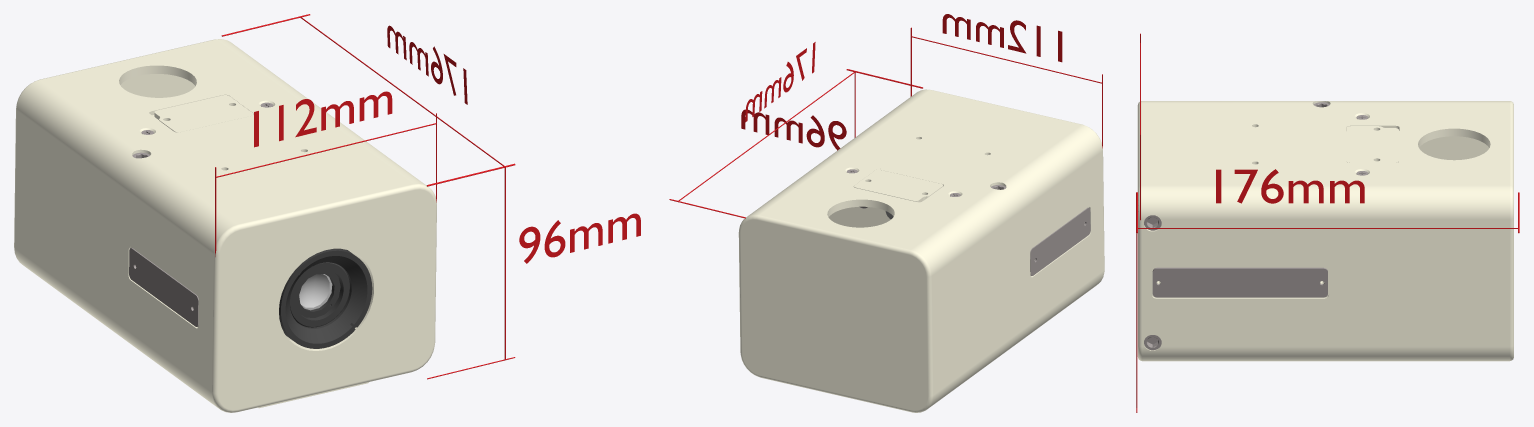
Rendered from demo.glb.
3 views of the same model, side by side, from view 1: azimuth 30°, elevation 25°; view 2: azimuth 150°, elevation 25°; view 3: azimuth 270°, elevation 25° (orthographic). The views are drawn at different scales.
Visible parts, largest first — view 1: 本体, 密閉カバー, 先端, ロゴ板, ねじ調節用板_上, テキスト.002, テキスト, 全面筒, テキスト.001, レンズ, レンズ止め, 円柱.002 (+2 smaller); view 2: 密閉カバー, 本体, ロゴ板, ねじ調節用板_上, テキスト.002, テキスト, 背面板, テキスト.001, 円柱.002, 円柱.001; view 3: 本体, 密閉カバー, 銘板, ねじ調節用板_上, テキスト.001, 円柱.002, 円柱.003.
Boxes of the visible parts, left/top/right/bottom form: 本体: left=104, top=105, right=436, bottom=412; 密閉カバー: left=14, top=39, right=318, bottom=329; 先端: left=279, top=248, right=372, bottom=348; ロゴ板: left=129, top=248, right=198, bottom=326; ねじ調節用板_上: left=154, top=95, right=253, bottom=132; テキスト.002: left=519, top=213, right=640, bottom=263; テキスト: left=254, top=91, right=392, bottom=147; 全面筒: left=290, top=262, right=349, bottom=327; テキスト.001: left=387, top=25, right=467, bottom=104; レンズ: left=299, top=274, right=332, bottom=310; レンズ止め: left=296, top=269, right=340, bottom=317; 円柱.002: left=221, top=14, right=514, bottom=186; 密閉カバー: left=738, top=158, right=1010, bottom=412; 本体: left=825, top=89, right=1104, bottom=351; ロゴ板: left=1030, top=207, right=1090, bottom=275; ねじ調節用板_上: left=854, top=169, right=943, bottom=202; テキスト.002: left=741, top=109, right=846, bottom=150; テキスト: left=942, top=14, right=1062, bottom=62; 背面板: left=828, top=207, right=890, bottom=227; テキスト.001: left=745, top=42, right=815, bottom=122; 円柱.002: left=669, top=69, right=922, bottom=218; 円柱.001: left=910, top=27, right=1102, bottom=148; 本体: left=1137, top=101, right=1342, bottom=361; 密閉カバー: left=1343, top=101, right=1513, bottom=361; 銘板: left=1152, top=267, right=1327, bottom=297; ねじ調節用板_上: left=1346, top=126, right=1398, bottom=162; テキスト.001: left=1216, top=169, right=1364, bottom=203; 円柱.002: left=1136, top=192, right=1519, bottom=233; 円柱.003: left=1136, top=192, right=1137, bottom=412.
Bounding box in the file's own units: 0.2134 × 0.1469 × 0.1808.
